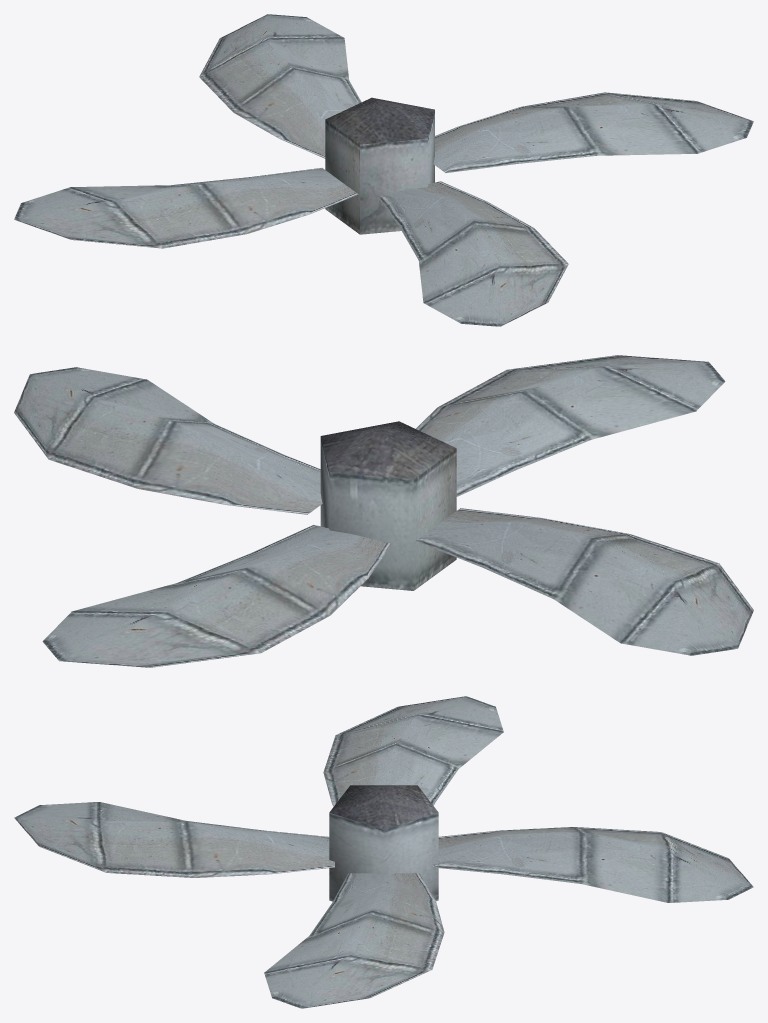
Rendered from Proppeler.fbx.
3 renders of one model, top to bottom at view 1: azimuth 30°, elevation 25°; view 2: azimuth 150°, elevation 25°; view 3: azimuth 270°, elevation 25°, orthographic. The views are drawn at different scales.
Parts seen in each view (by area): view 1: Proppeler; view 2: Proppeler; view 3: Proppeler.
Boxes of the visible parts, x1,y1,x2,y2 form: Proppeler: [14, 14, 753, 326]; Proppeler: [14, 355, 753, 667]; Proppeler: [14, 696, 753, 1008].
Size of the model in its own units: 346 by 54.59 by 346.
